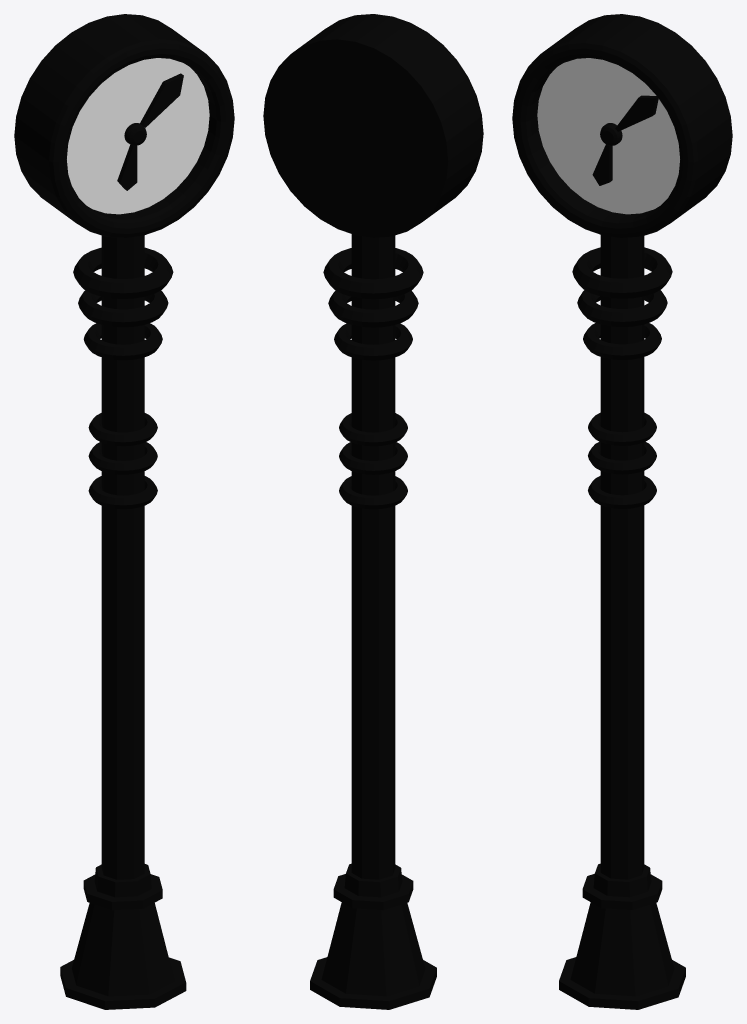
File: streetclock_lv4.fbx
The picture shows the model from 3 angles, left to right: view 1: azimuth 30°, elevation 25°; view 2: azimuth 150°, elevation 25°; view 3: azimuth 330°, elevation 25°; orthographic projection.
Parts seen in each view (by area): view 1: streetclock_lv4; view 2: streetclock_lv4; view 3: streetclock_lv4.
Part boxes in pixels (bbox=[...]): streetclock_lv4: bbox=[14, 14, 234, 1009]; streetclock_lv4: bbox=[263, 14, 483, 1009]; streetclock_lv4: bbox=[512, 14, 732, 1009].
Size of the model in its own units: 166 by 816 by 101.
